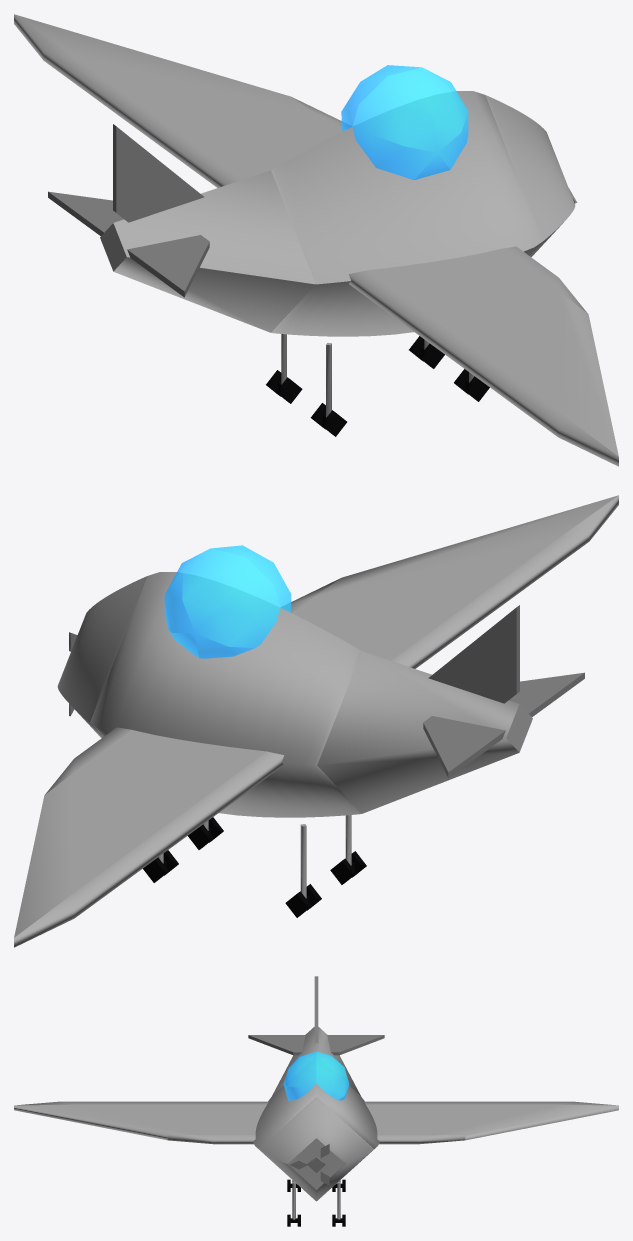
Rendered from Airplanes.glb.
3 renders of one model, top to bottom at view 1: azimuth 30°, elevation 25°; view 2: azimuth 150°, elevation 25°; view 3: azimuth 270°, elevation 25°, orthographic. The views are drawn at different scales.
Parts seen in each view (by area): view 1: Root; view 2: Root; view 3: Root.
Boxes of the visible parts, left/top/right/bottom form: Root: left=14, top=14, right=618, bottom=466; Root: left=14, top=495, right=618, bottom=947; Root: left=14, top=976, right=618, bottom=1226.
Size of the model in its own units: 7.49 by 5.52 by 17.91.
